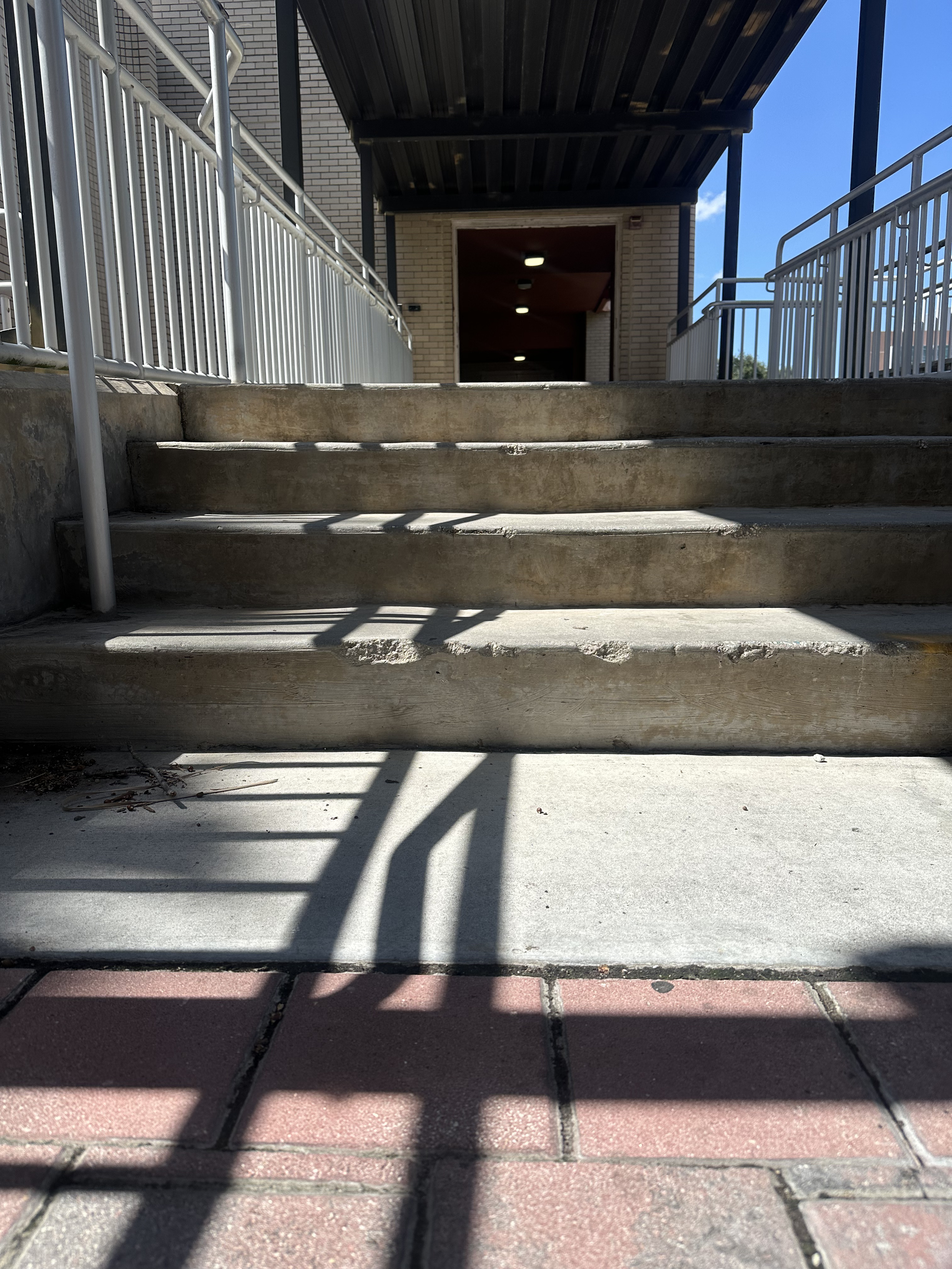stairs: (0, 370, 948, 748)
